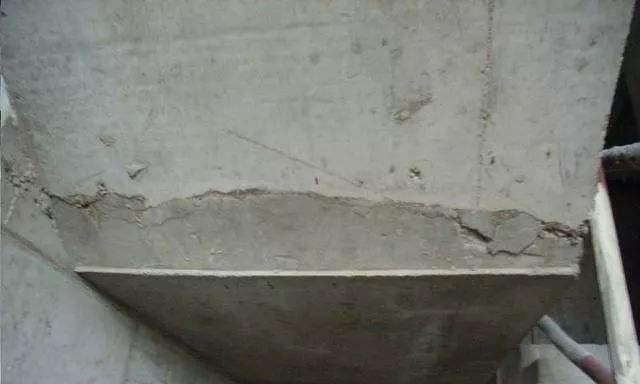Spalling: (44, 186, 589, 270)
